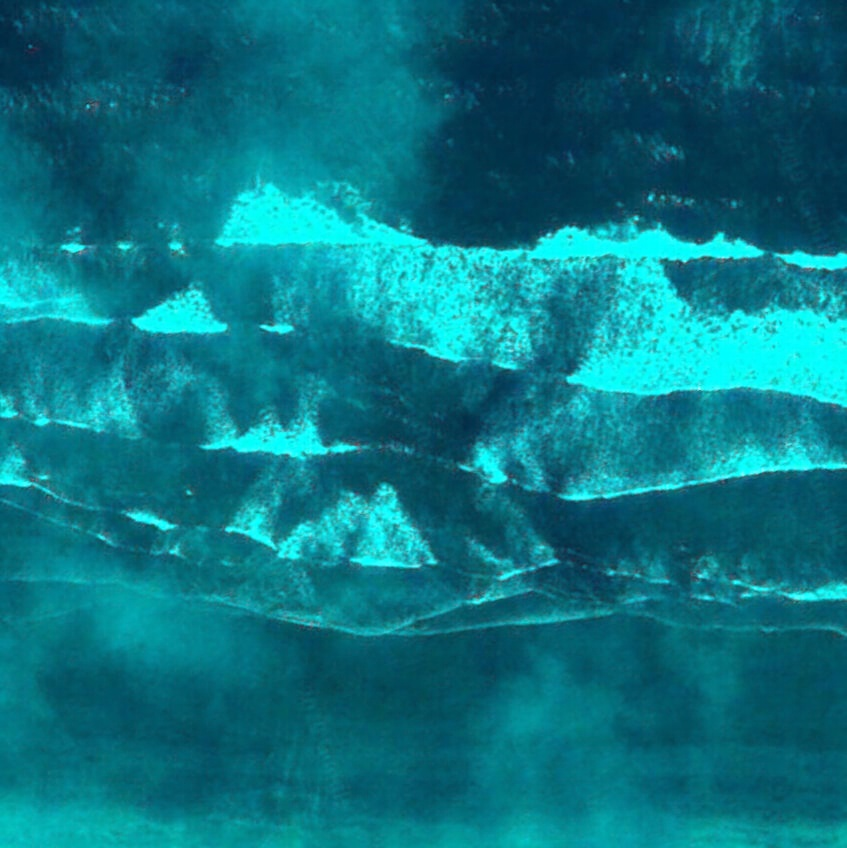rip_current: (173, 196, 569, 575)
